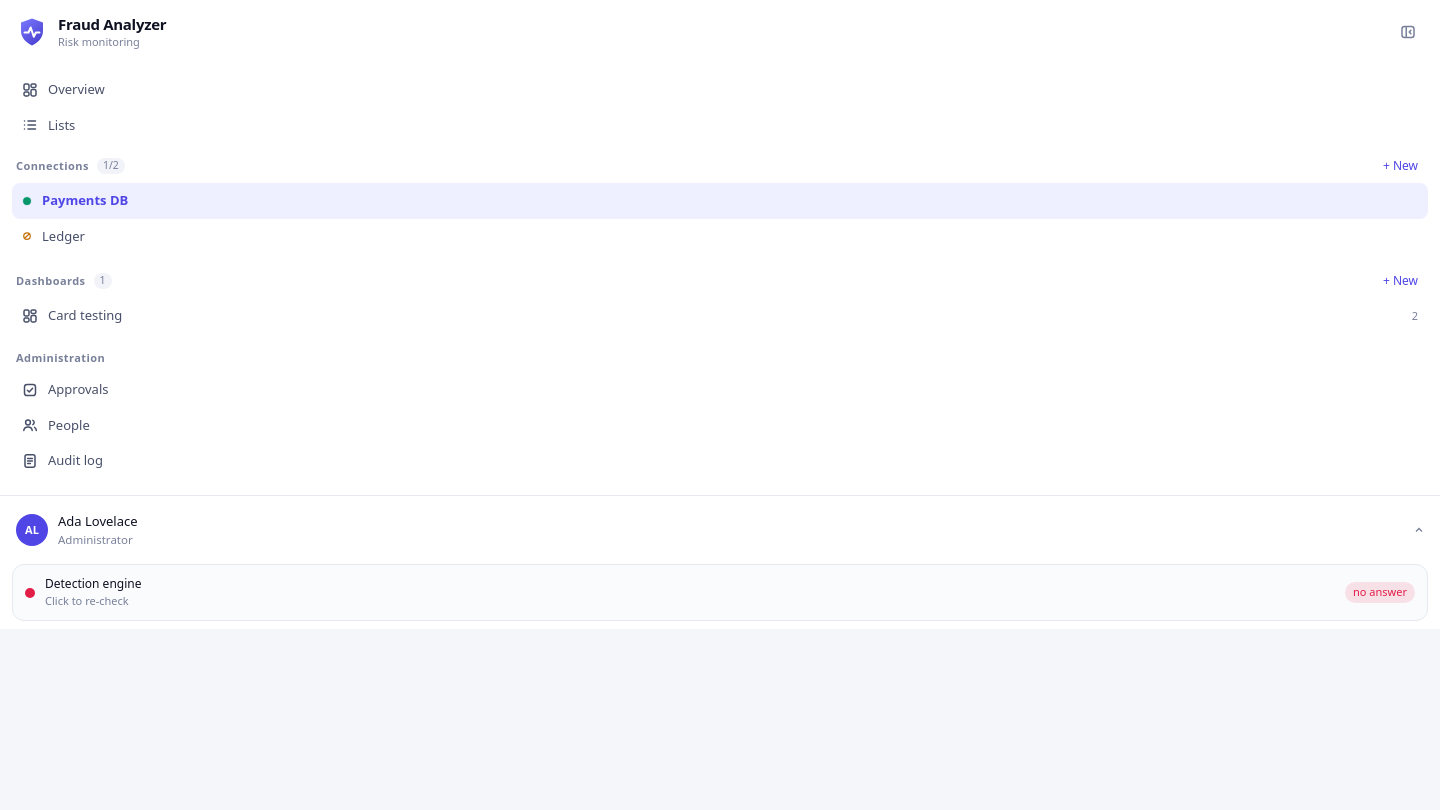
Scenario: what each role sees in the rail › names who is signed in, and how to leave
The width and height of the screenshot is (1440, 810).
Check: the text "Ada Lovelace" is shown, box [58,512,138,530]
Check: the text "Administrator" is shown, box [58,532,133,547]
Click the button "AL Ada Lovelace Administrator": [32, 530] box [8,504,1432,556]
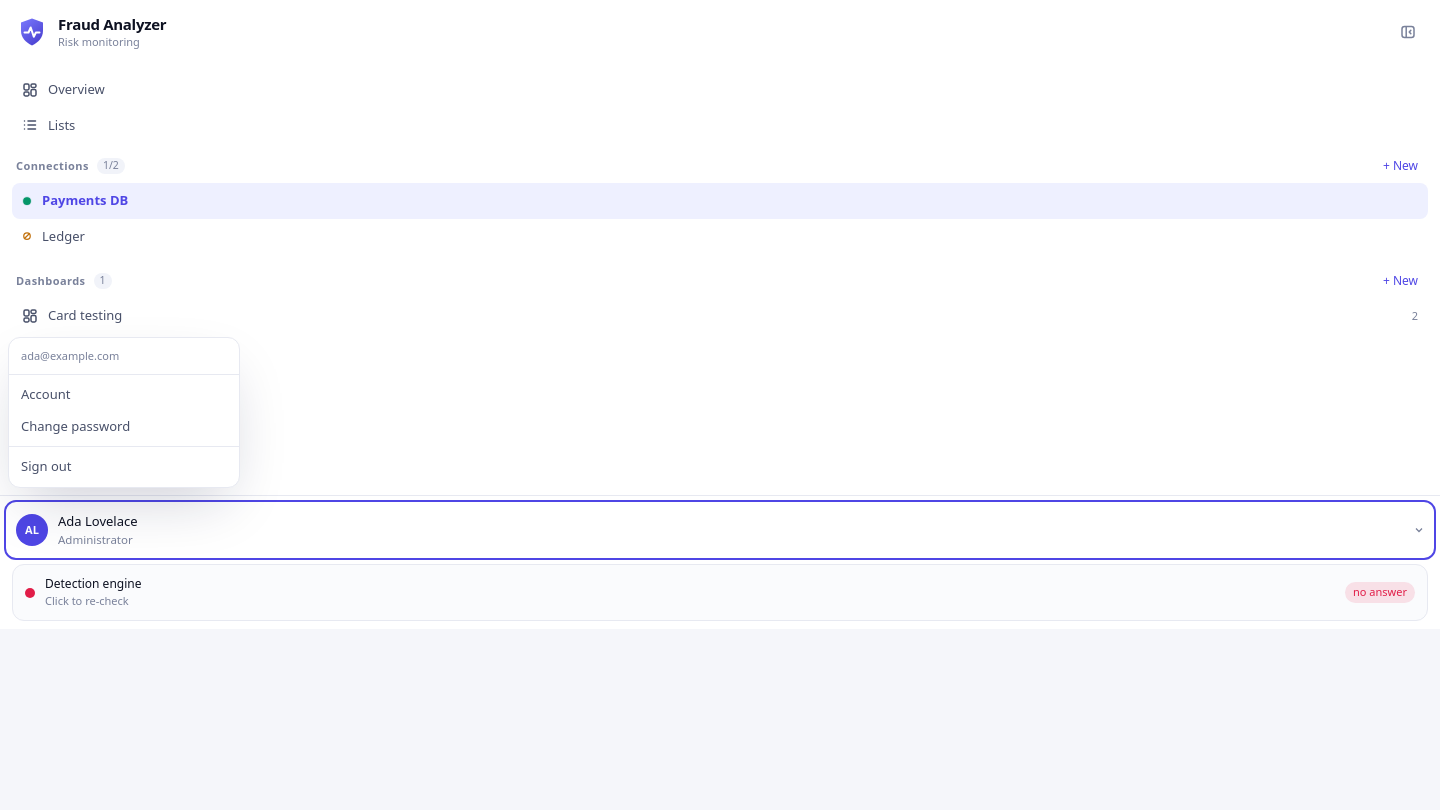
Check: the menu item "Sign out" is shown, box [9,451,239,482]
